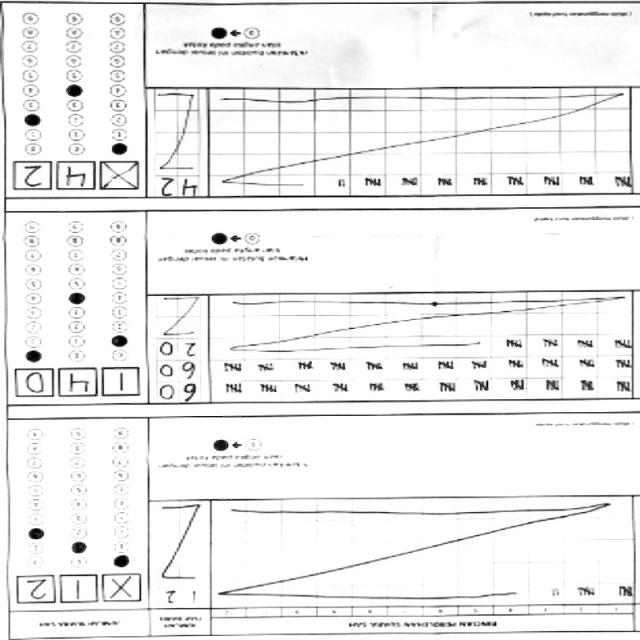Suara: (12, 364, 149, 403), (11, 570, 148, 608), (10, 160, 146, 198)
